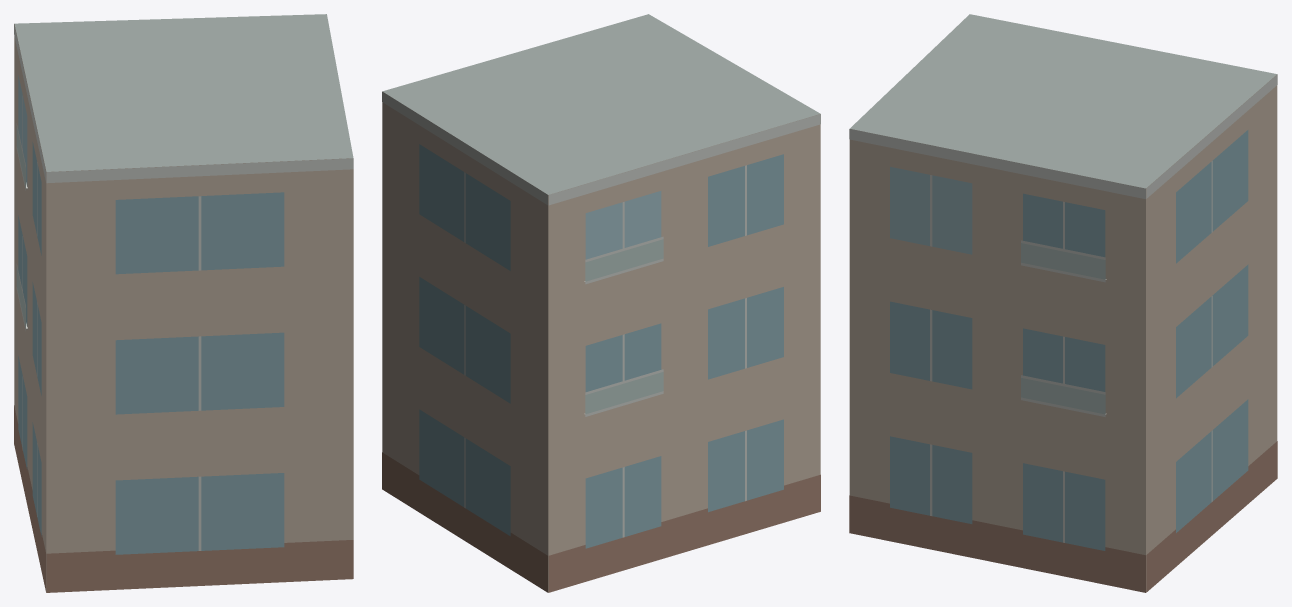
File: survey-upis-32491671.glb
3 views of the same model, side by side, from view 1: azimuth 30°, elevation 25°; view 2: azimuth 150°, elevation 25°; view 3: azimuth 270°, elevation 25° (orthographic). The views are drawn at different scales.
Visible parts, largest first — view 1: survey-upis-32491671.tmp; view 2: survey-upis-32491671.tmp; view 3: survey-upis-32491671.tmp.
Part boxes in pixels (left/top/right/bottom): survey-upis-32491671.tmp: left=14, top=14, right=353, bottom=592; survey-upis-32491671.tmp: left=382, top=14, right=820, bottom=592; survey-upis-32491671.tmp: left=849, top=14, right=1277, bottom=592.
Bounding box in the file's own units: 8.48 × 9.15 × 8.79.
